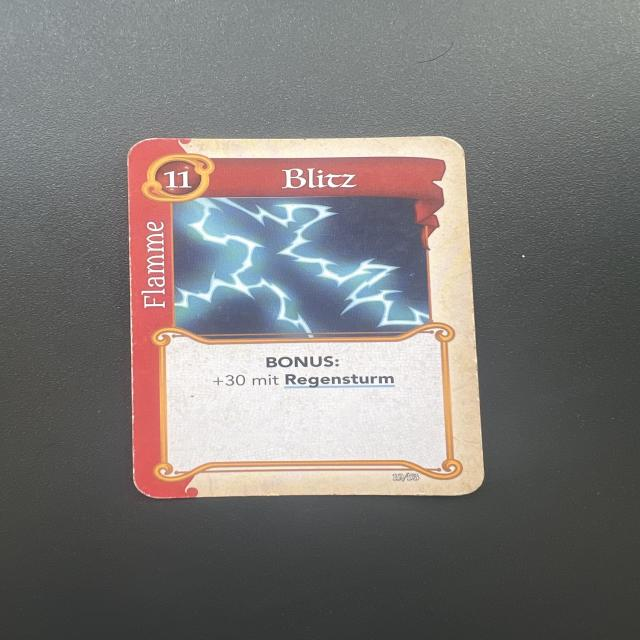Lightning: (115, 132, 497, 509)
